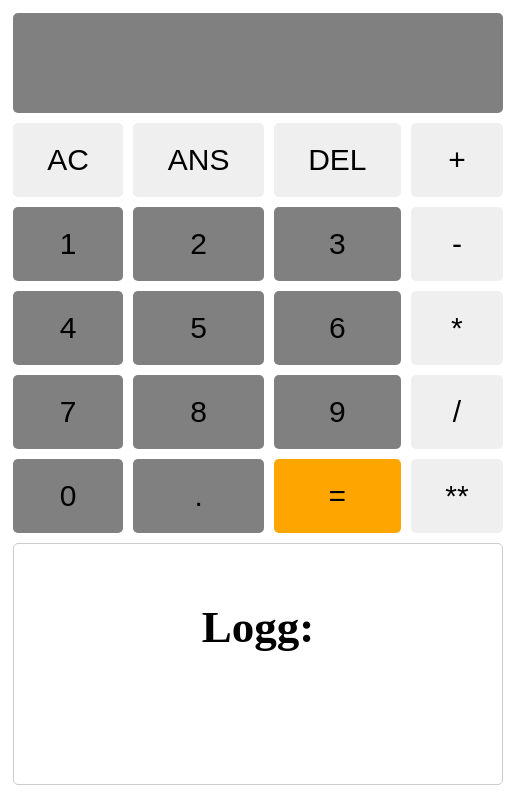
Test: Calculator › calculation with double -
Click the button with class "area5" at (199, 244), box 133,207 -> 264,281
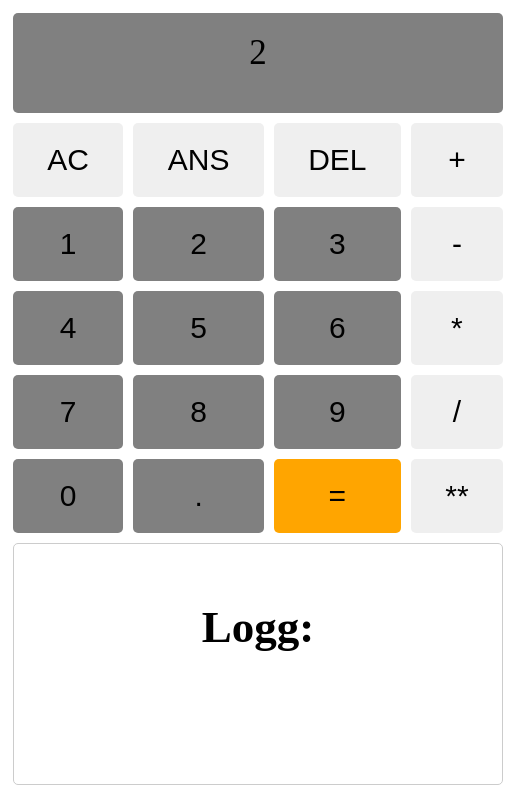
Click the button "-" at (457, 244), box 411,207 -> 503,281
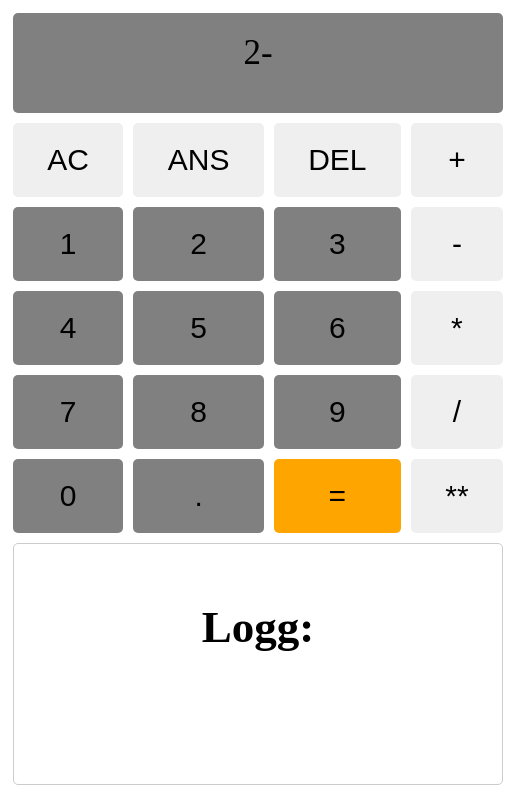
Click the button "-" at (457, 244), box 411,207 -> 503,281
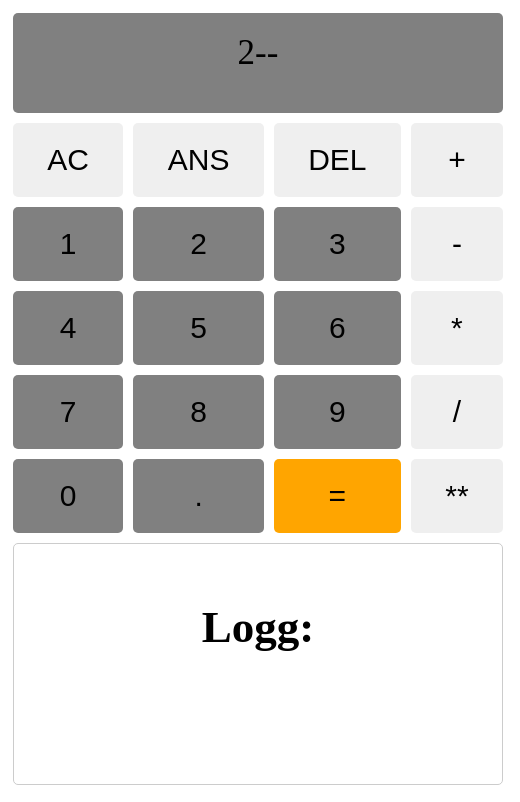
Click the button with class "area9" at (199, 328), box 133,291 -> 264,365
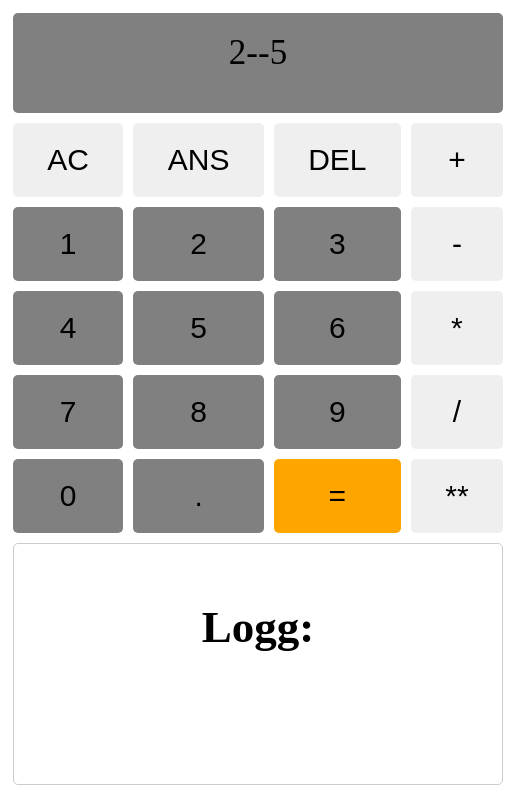
Click the button with class "area18" at (337, 496), box 274,459 -> 401,533
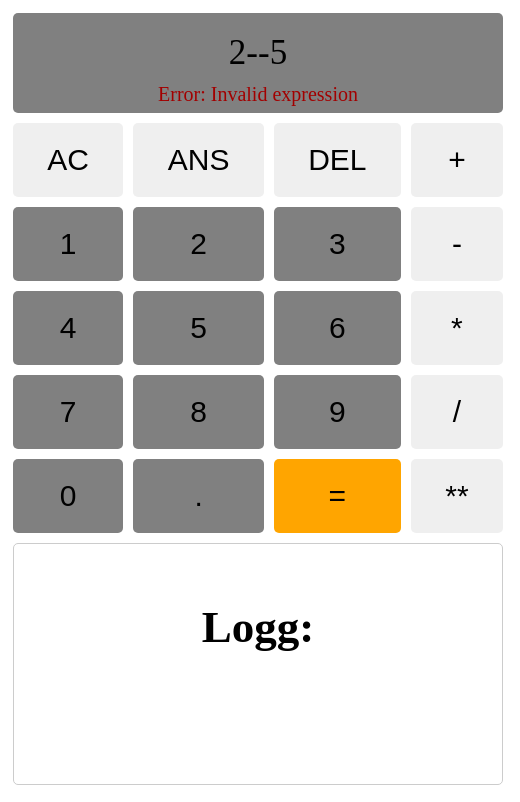
Result: the text "Error: Invalid expression" is shown at 158,83 -> 358,105
